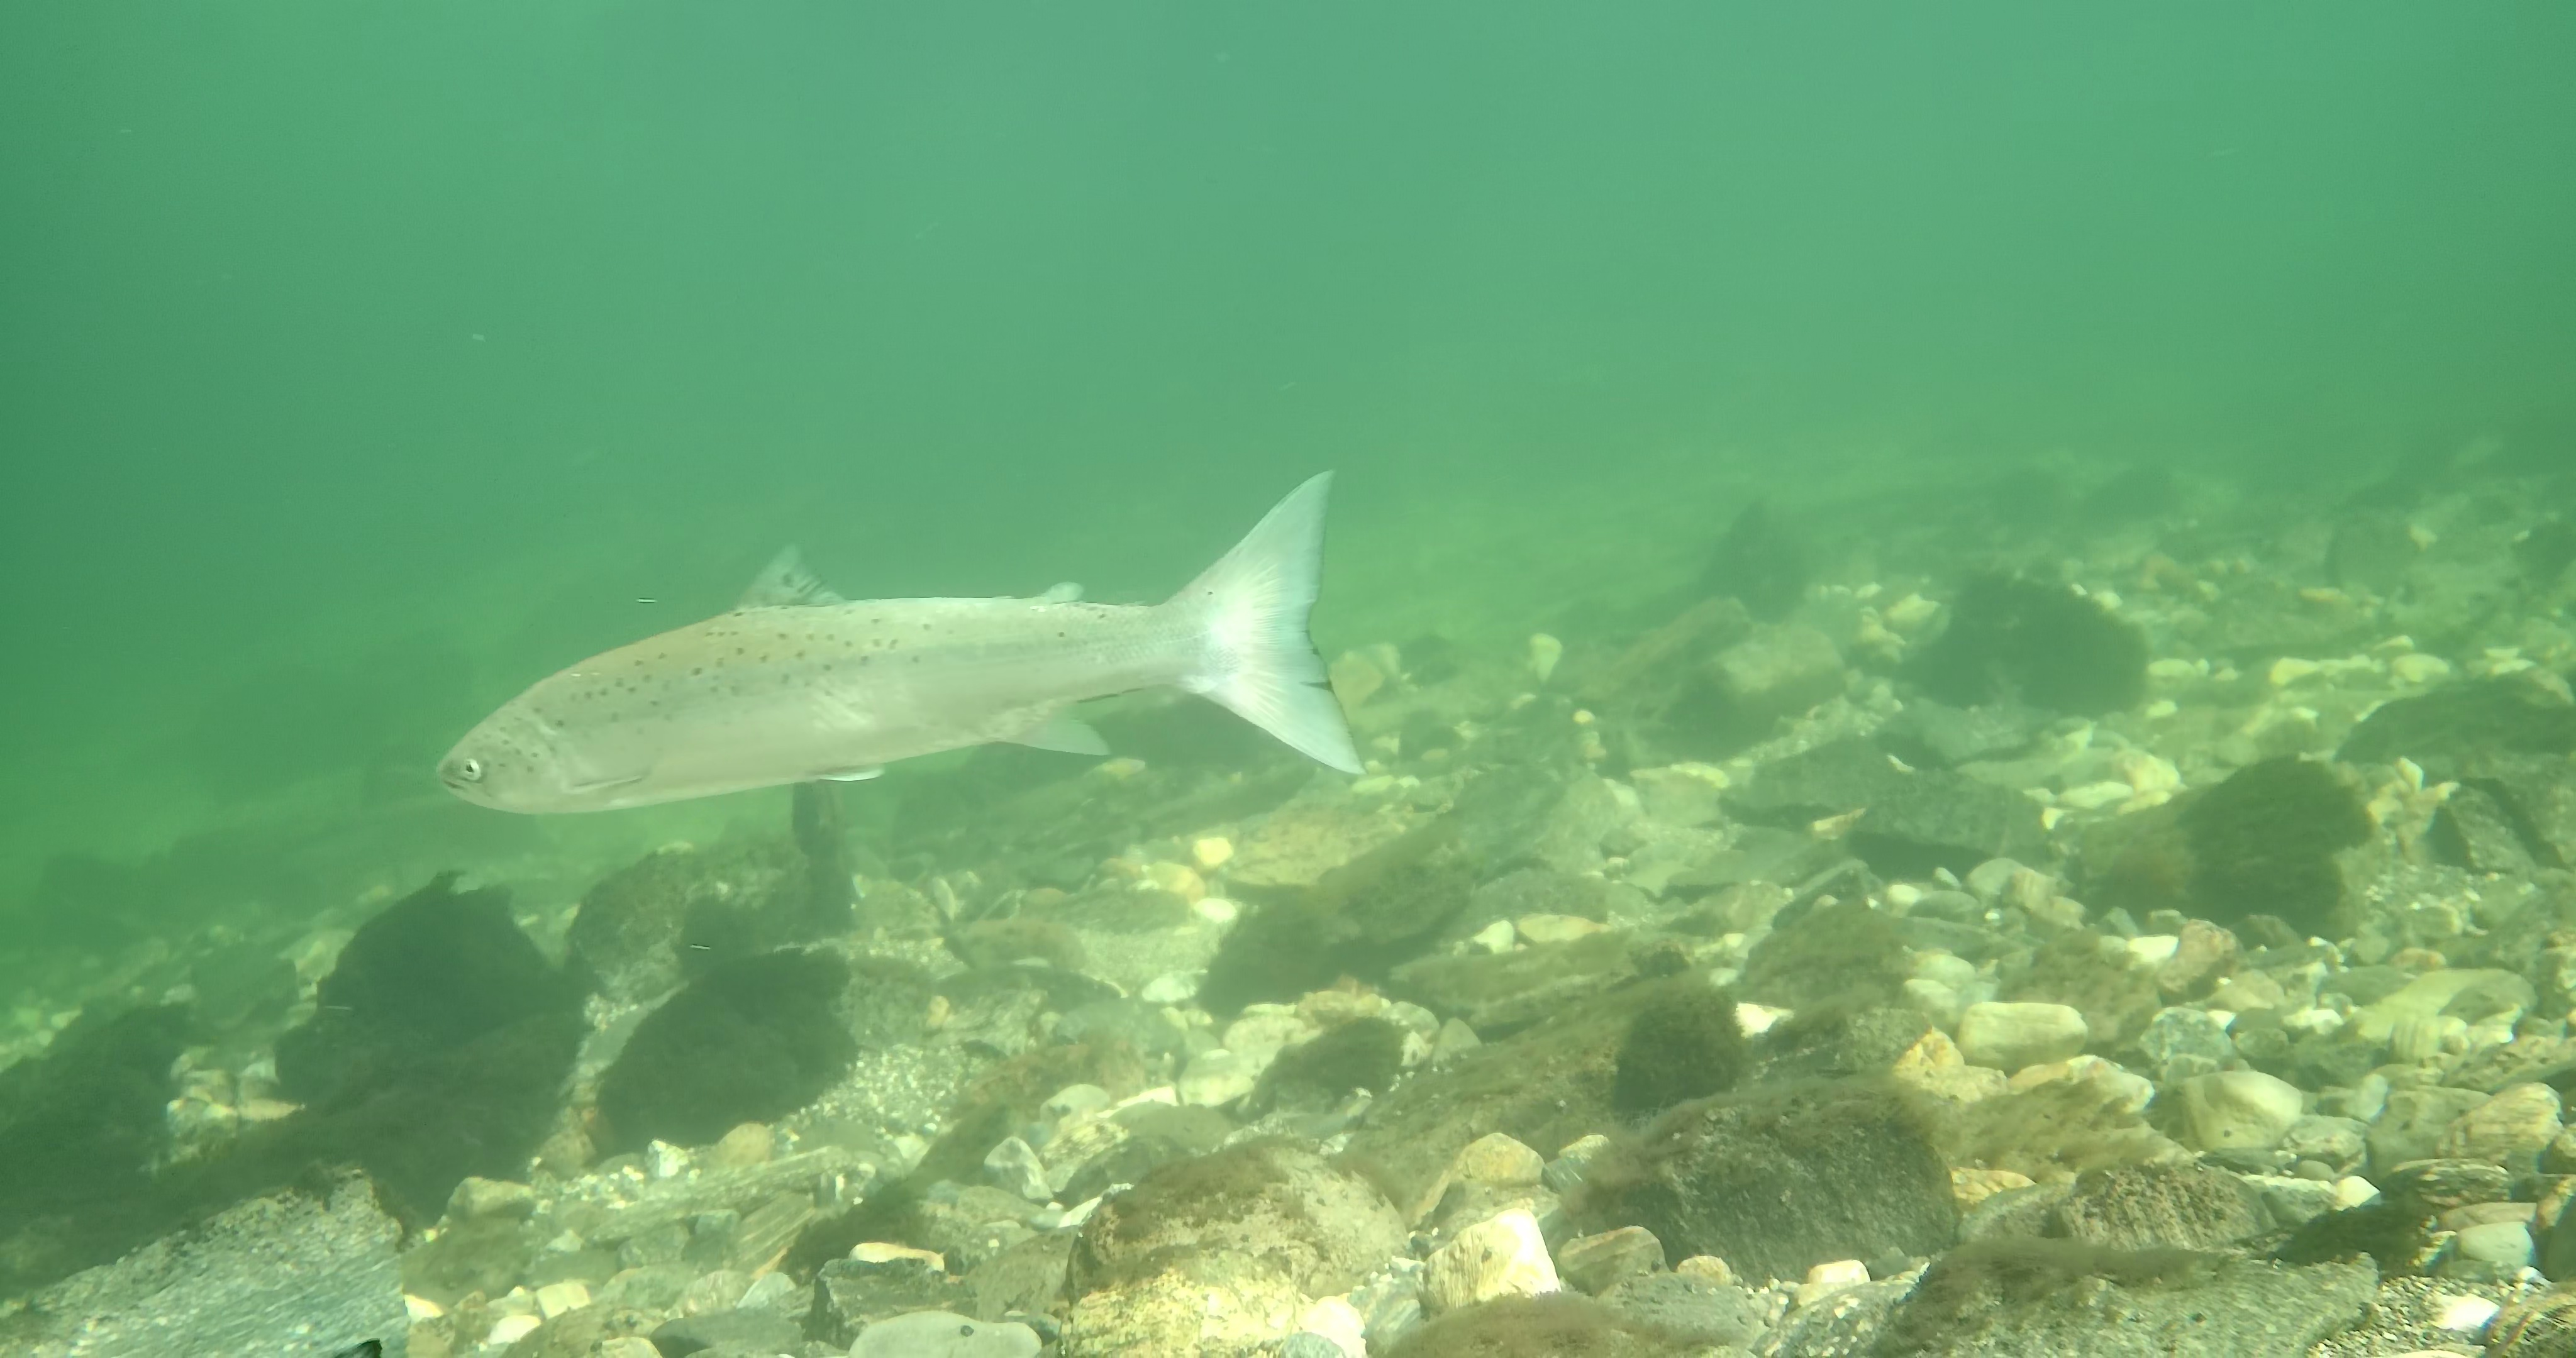salmon: (429, 465, 1370, 821)
